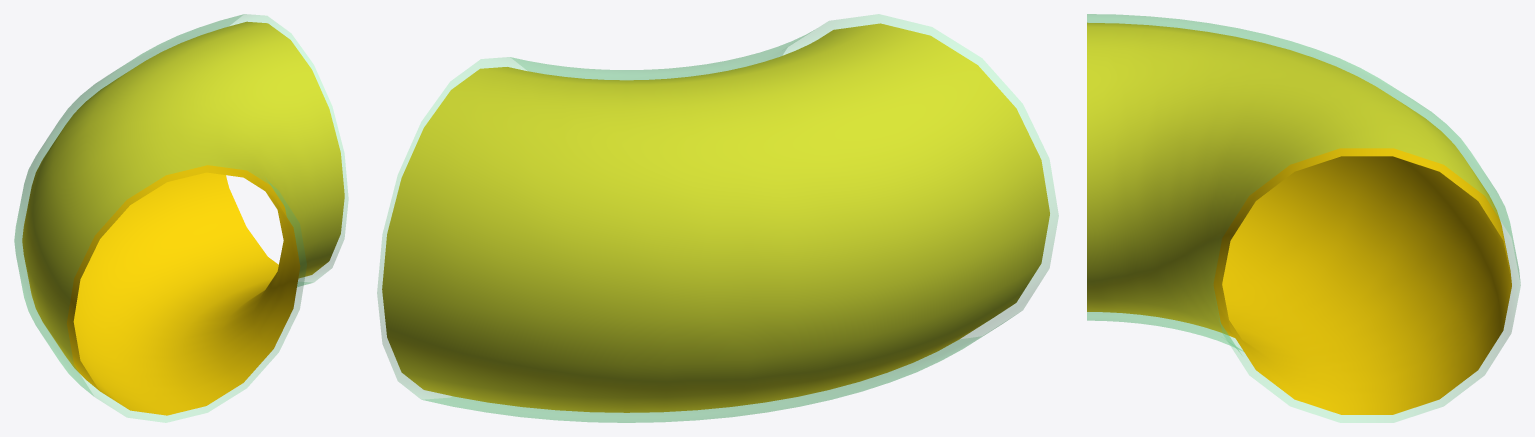
File: 冷却回-弯头.glb
The picture shows the model from 3 angles, left to right: view 1: azimuth 30°, elevation 25°; view 2: azimuth 150°, elevation 25°; view 3: azimuth 270°, elevation 25°; orthographic projection. The views are drawn at different scales.
Visible parts, largest first — view 1: 贴图, Box001; view 2: Box001, 贴图; view 3: 贴图, Box001.
Boxes of the visible parts, left/top/right/bottom form: 贴图: left=22, top=21, right=344, bottom=415; Box001: left=14, top=14, right=348, bottom=422; Box001: left=377, top=14, right=1058, bottom=422; 贴图: left=382, top=23, right=1049, bottom=412; 贴图: left=1087, top=22, right=1511, bottom=414; Box001: left=1087, top=14, right=1520, bottom=422.
Size of the model in its own units: 4.93 by 3.45 by 4.93.
